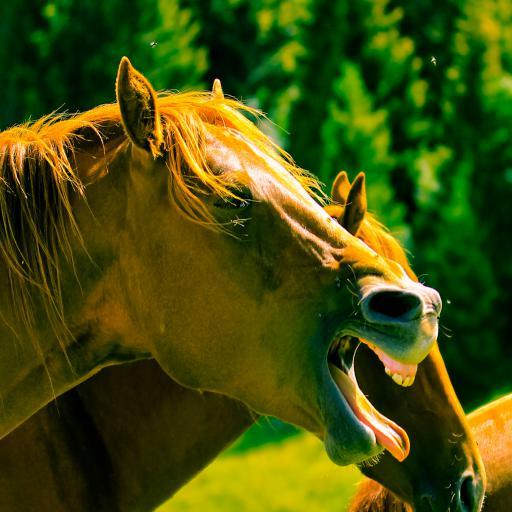Horse: (0, 54, 443, 466), (0, 171, 488, 512)
